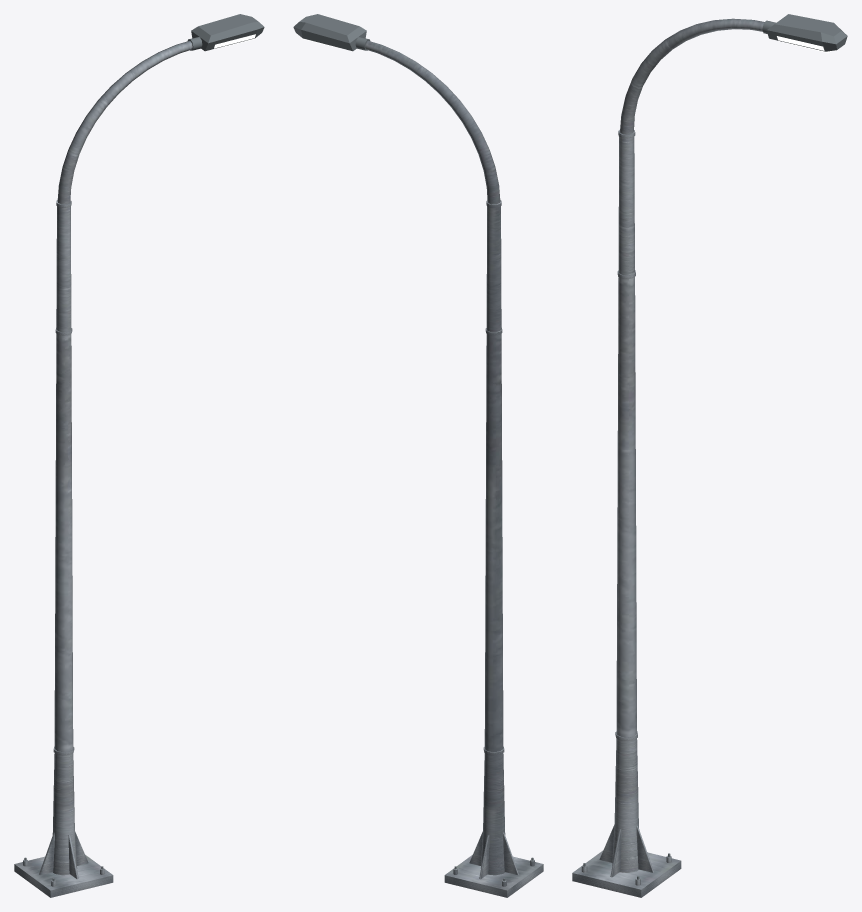
The model's file is bridge_lamp_r3.glb.
3 views of the same model, side by side, from view 1: azimuth 30°, elevation 25°; view 2: azimuth 150°, elevation 25°; view 3: azimuth 330°, elevation 25° (orthographic). The views are drawn at different scales.
Parts seen in each view (by area): view 1: bridge_lamp_r3; view 2: bridge_lamp_r3; view 3: bridge_lamp_r3.
Boxes of the visible parts, x1=… form: bridge_lamp_r3: x1=14, y1=14, x2=264, y2=897; bridge_lamp_r3: x1=293, y1=14, x2=543, y2=897; bridge_lamp_r3: x1=572, y1=14, x2=847, y2=897.
Bounding box in the file's own units: 2.89 × 9.91 × 0.7996.
Materials: 3 (1 with a texture image).
